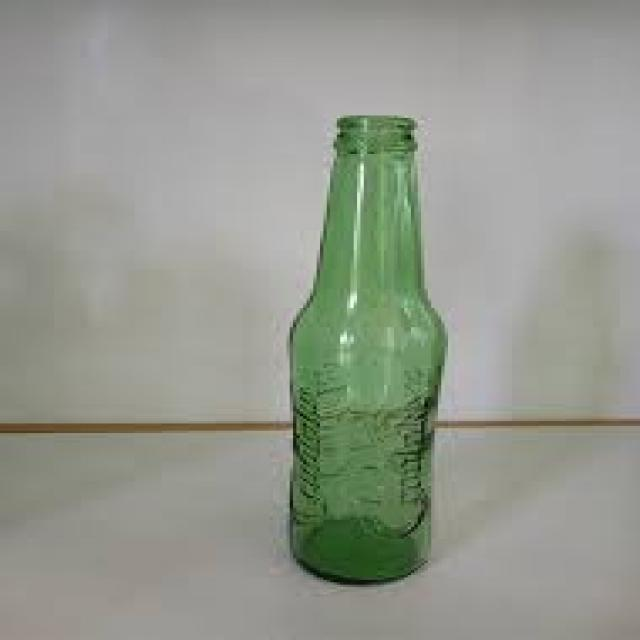Glass-Non-Biodegradable but Recyclable-: (284, 118, 448, 586)
